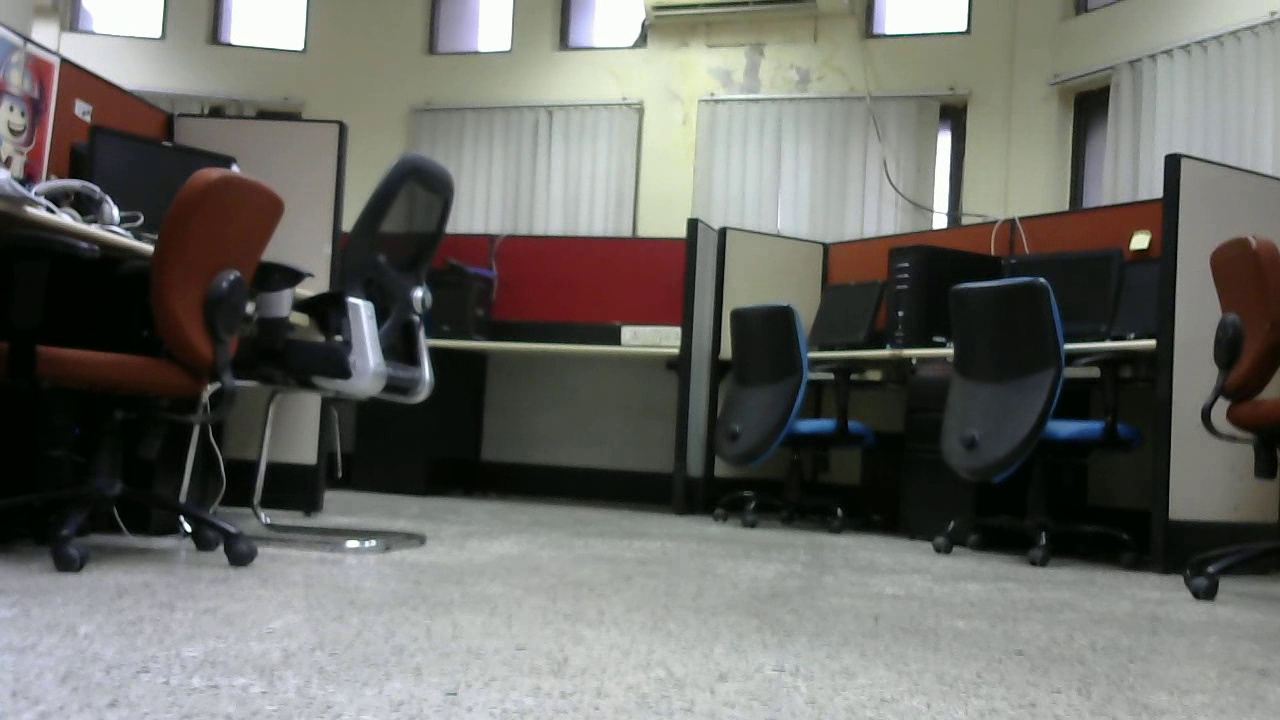chair: (26, 164, 290, 574), (284, 150, 470, 549), (924, 279, 1145, 576), (692, 304, 877, 534)
